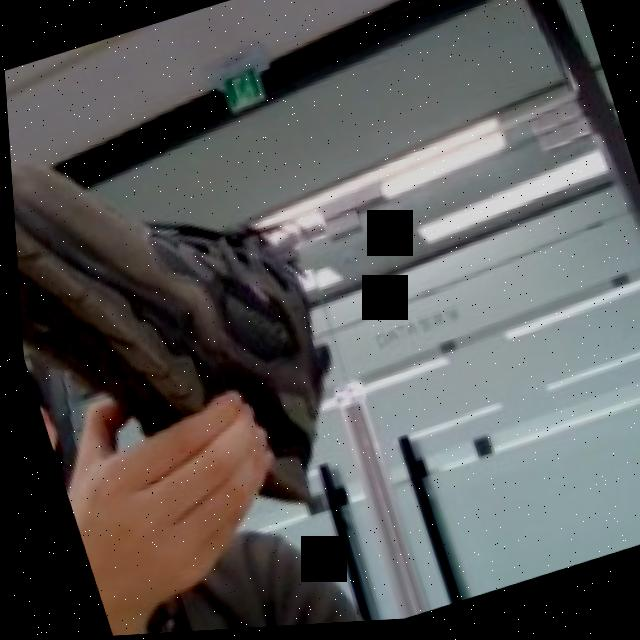shoes: (3, 47, 432, 588)
